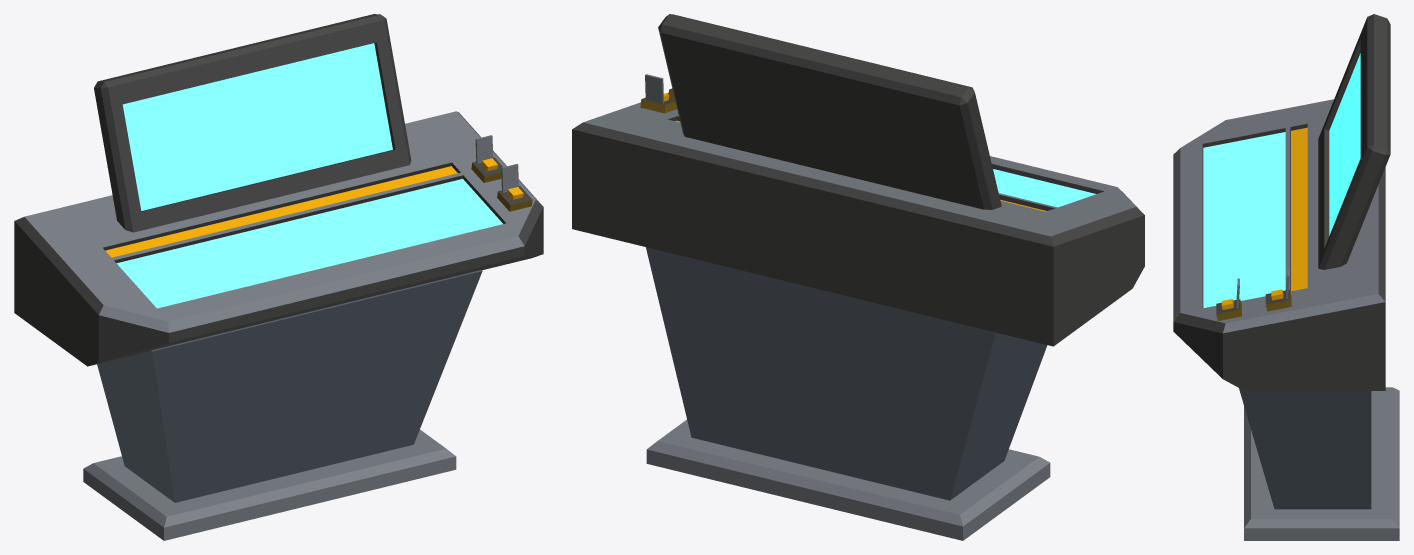
File: free_console_tactical.glb
3 renders of one model, left to right at view 1: azimuth 30°, elevation 25°; view 2: azimuth 150°, elevation 25°; view 3: azimuth 270°, elevation 25°, orthographic. The views are drawn at different scales.
Visible parts, largest first — view 1: free_console_tactical; view 2: free_console_tactical; view 3: free_console_tactical.
Part boxes in pixels (x1,y1,x2,y2): free_console_tactical: (14, 14, 543, 540); free_console_tactical: (572, 14, 1144, 540); free_console_tactical: (1173, 14, 1399, 540).
Size of the model in its own units: 1.4 by 1.23 by 0.64.
